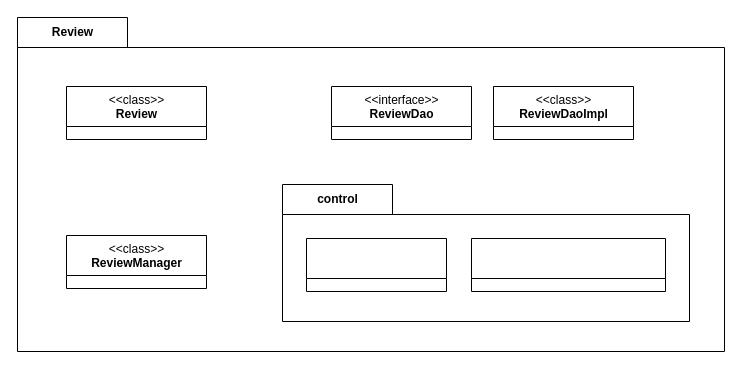
This 742x369 diagram has some shape labels left out. The centre of each missing label's shape, as x and y in pixels:
<<class>> AddReviewControl: point (376, 265)
<<class>> UpdateReviewStatusControl: point (568, 265)
